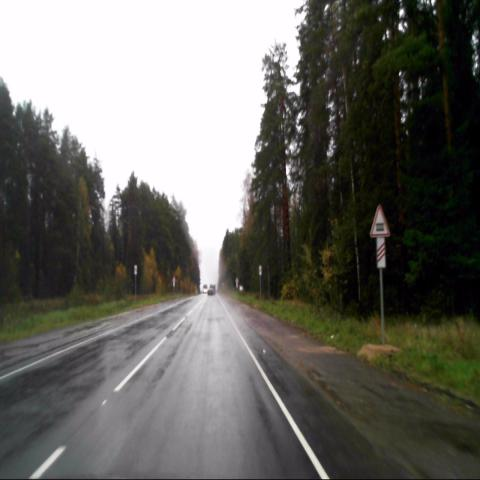1_1: (370, 204, 390, 237)
